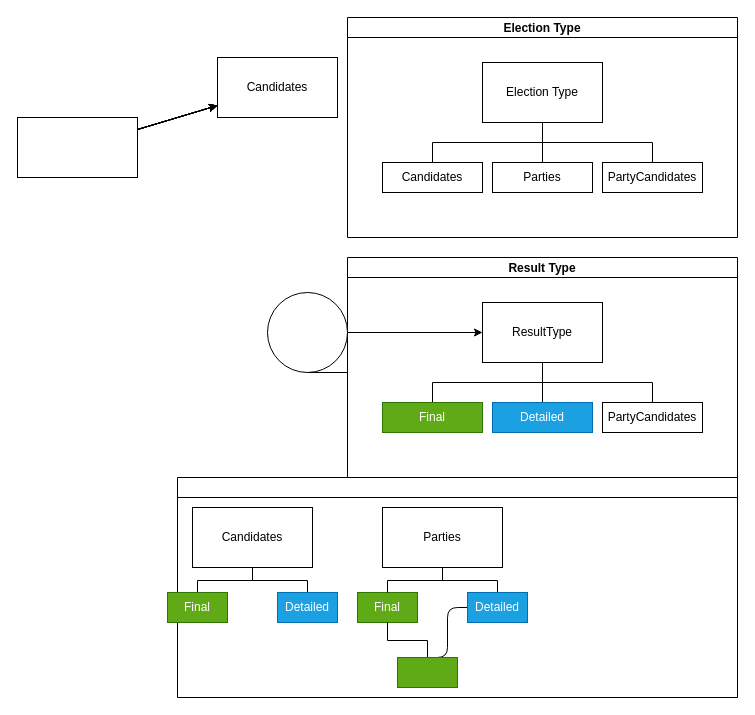
The diagram is 755 pixels wide and 715 high, and some of its shapes have lost their labels. The box of each missing label's shape, as (x1, y1, x2, y2) in pixels:
ElectionResultTypes: (176, 476, 738, 698)
ElectionType: (16, 116, 138, 178)
Eltizam?: (396, 656, 458, 688)
With Eltizam: (266, 292, 348, 372)
